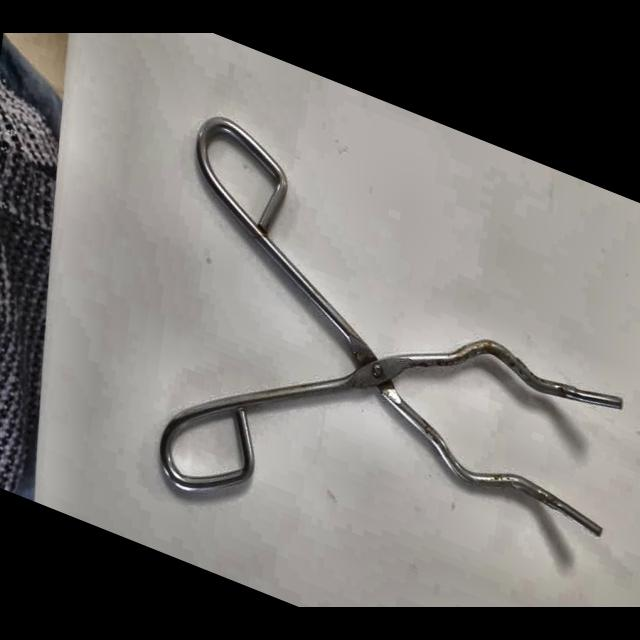Tongue: (124, 96, 640, 607)
